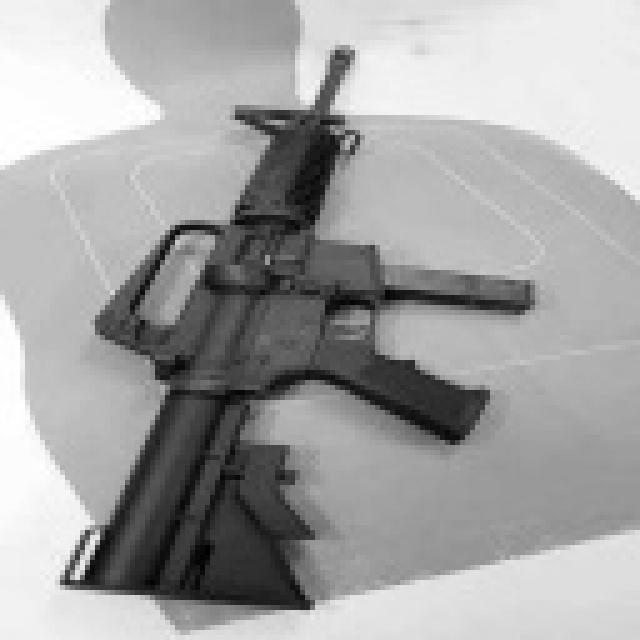Rifle: (0, 0, 552, 611)
